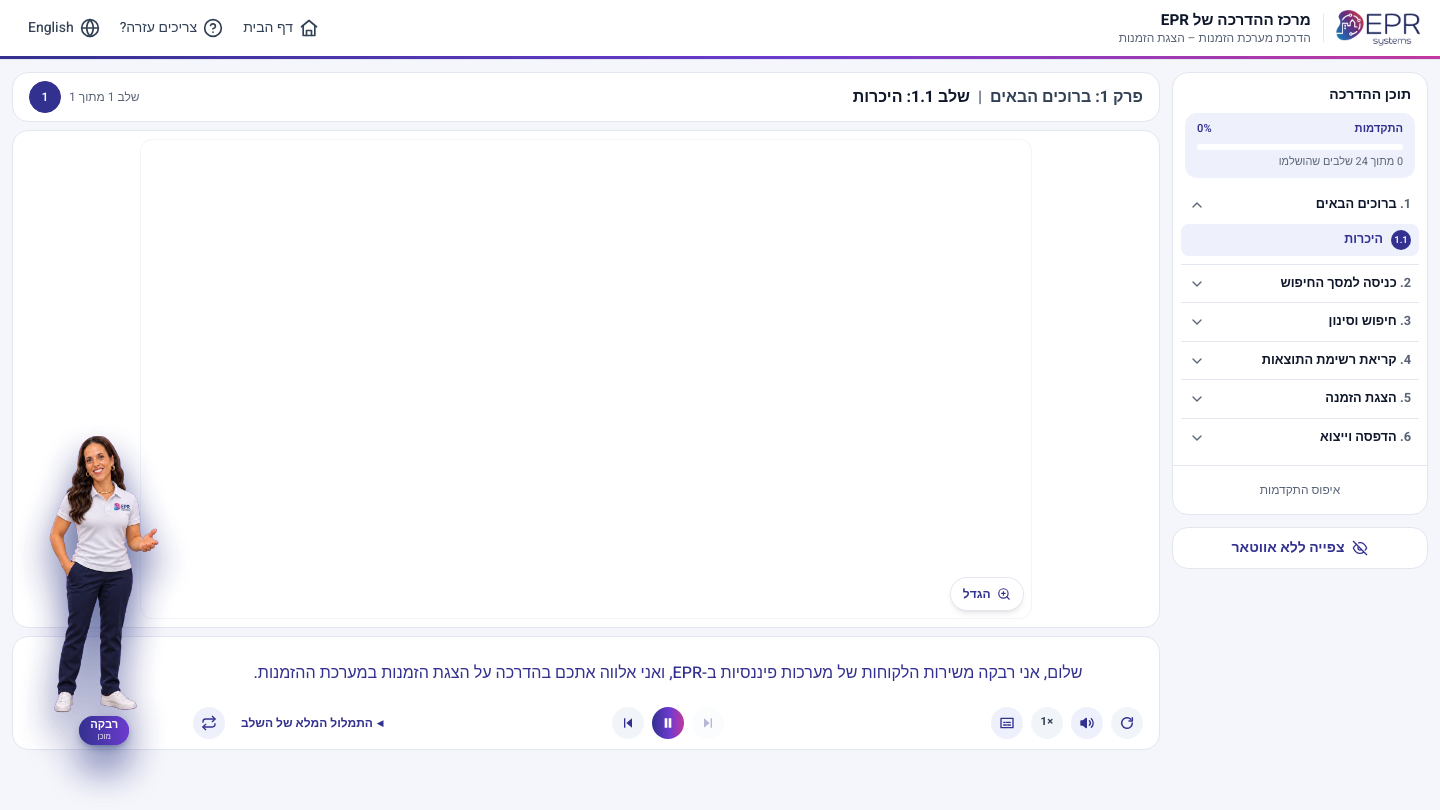
Test case: App › navigates to step 4.5 from the nav and marks it current
Note: chapters fold: open the chapter first
Click the button "5. הצגת הזמנה" at coordinates (1300, 399), box 1181,380 -> 1419,418
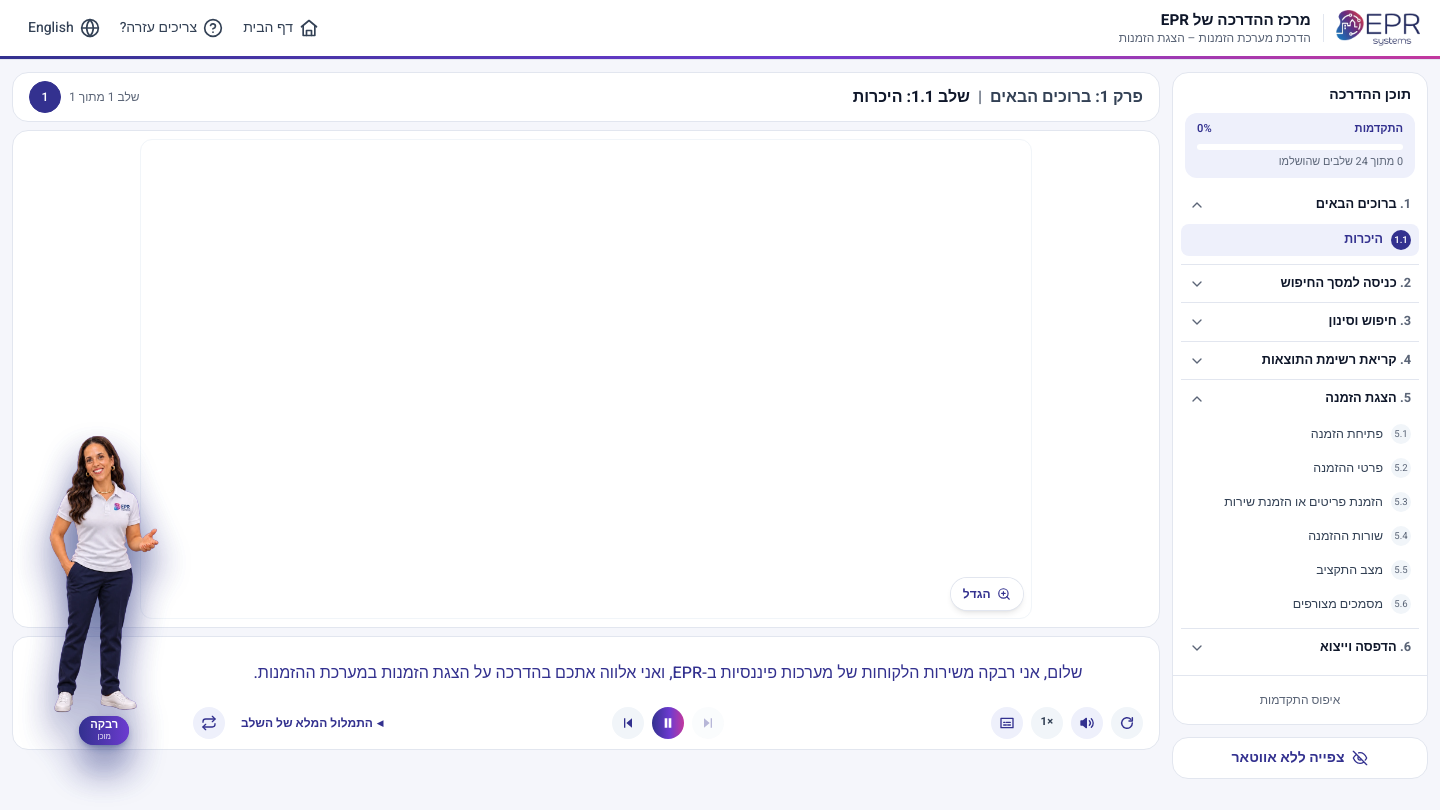
Click the button "5.5 מצב התקציב" at coordinates (1300, 570), box 1181,554 -> 1419,586
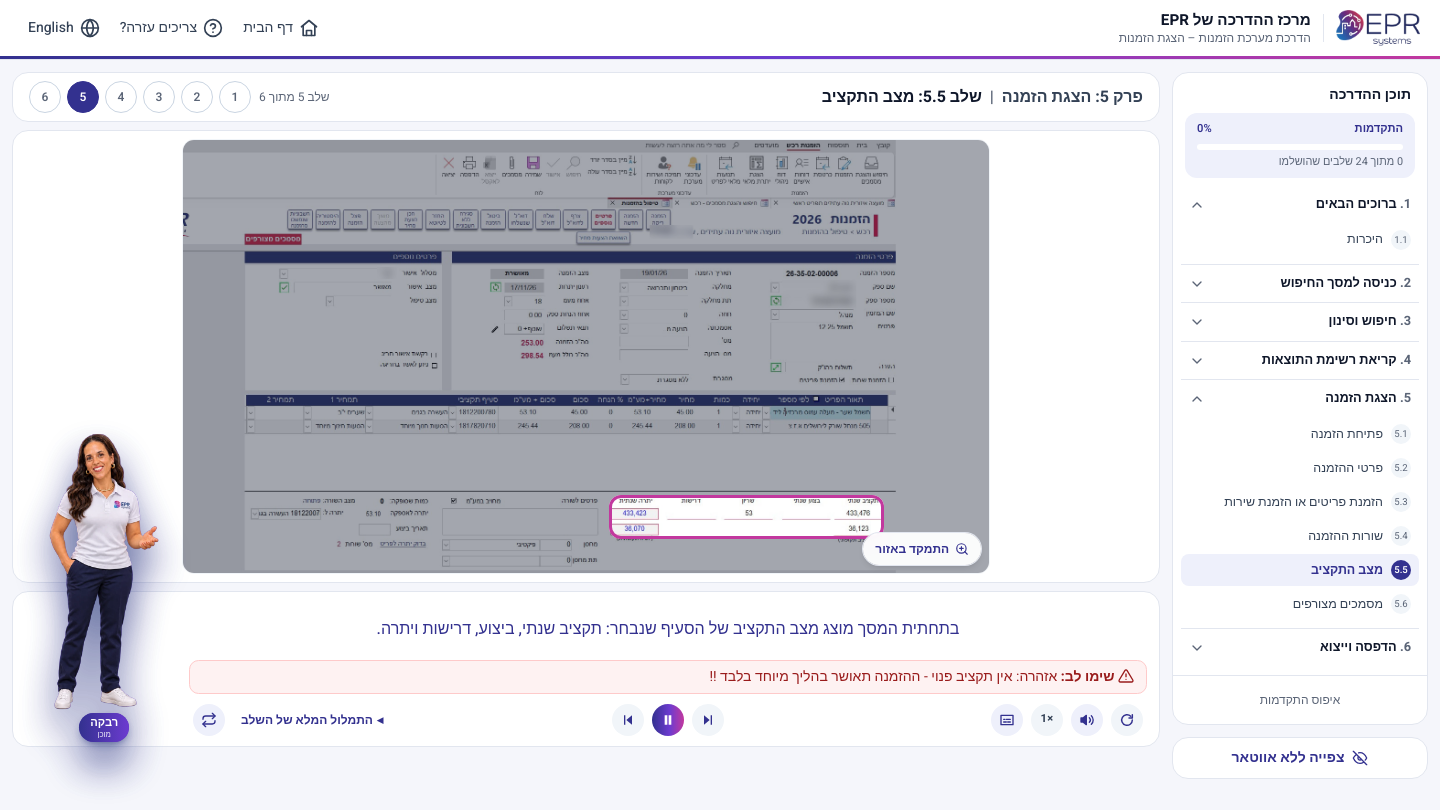
Now the heading shows "מצב התקציב", box 822,85 -> 914,109
